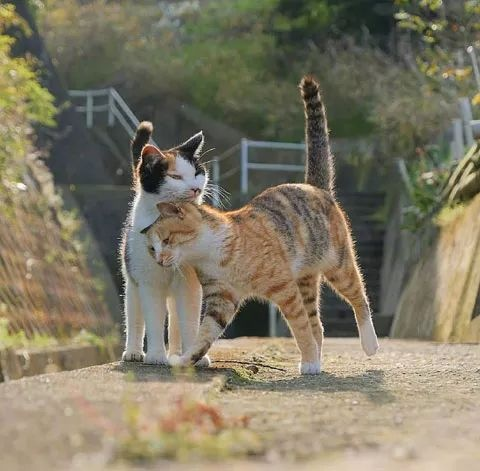cat: (143, 76, 380, 375), (118, 119, 211, 368)
